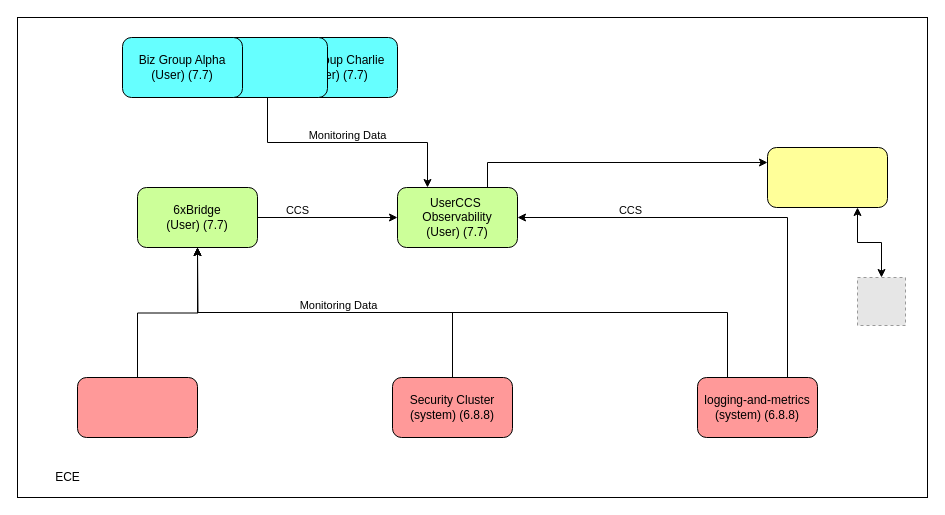
The diagram is 945 pixels wide and 515 high, and some of its shapes have lost their labels. Grey dashed boxes stand in for pictures. The shapes that lost their labels are listed below. From the top down, each one's centre as x and y in pixels, then its label:
At (x=267, y=67): "Biz Group Beta (User) (7.7)".
At (x=827, y=177): "User Observability (Kibana) (7.7)".
At (x=137, y=407): "admin-console-elasticsearch (system) (6.8.8)".
